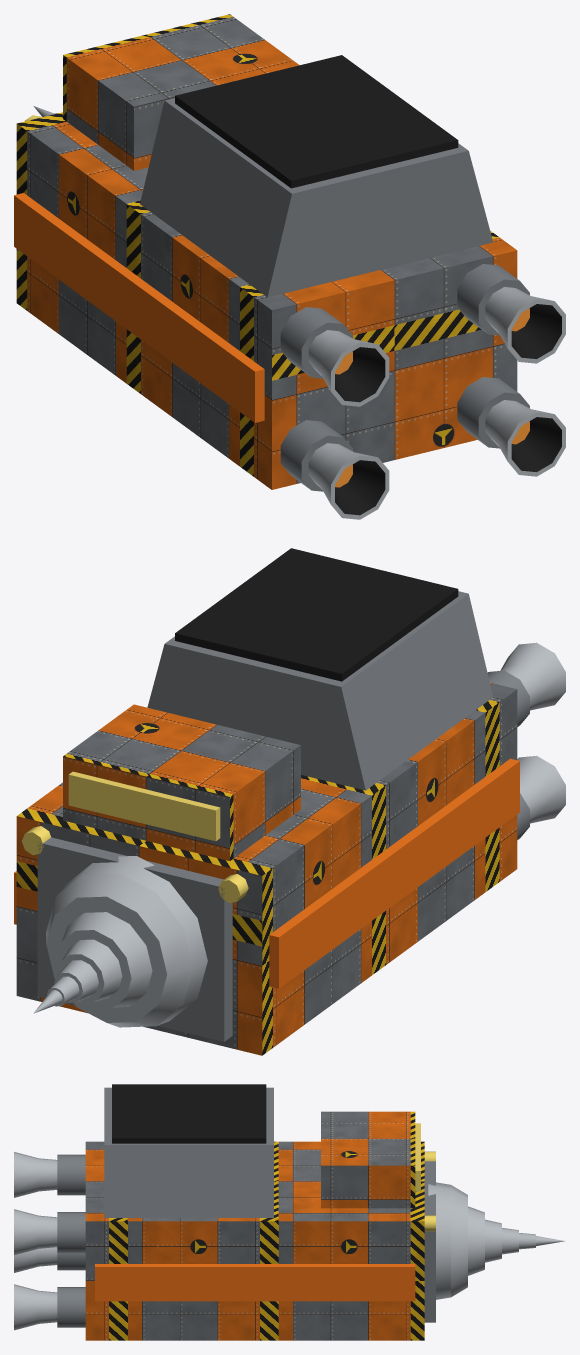
Rendered from prospector_hauler.obj.
The picture shows the model from 3 angles, top to bottom: view 1: azimuth 30°, elevation 25°; view 2: azimuth 150°, elevation 25°; view 3: azimuth 270°, elevation 25°; orthographic projection. The views are drawn at different scales.
Visible parts, largest first — view 1: hull, hopper, ore, thruster, cab, rail, pod; view 2: hull, hopper, cab, drill, ore, rail, drill_mount, cab_glass, thruster, pod, lamp; view 3: hull, hopper, rail, cab, ore, drill, thruster, pod, drill_mount, cab_glass, lamp.
Part boxes in pixels (x1,y1,x2,y2): hull: [16, 112, 517, 489]; hopper: [140, 98, 492, 297]; ore: [175, 55, 458, 188]; thruster: [308, 287, 565, 519]; cab: [63, 14, 299, 170]; rail: [14, 193, 264, 422]; pod: [280, 264, 529, 491]; hull: [16, 682, 517, 1055]; hopper: [147, 591, 492, 790]; cab: [63, 704, 300, 860]; drill: [33, 856, 207, 1027]; ore: [175, 548, 458, 681]; rail: [14, 758, 519, 988]; drill_mount: [37, 837, 232, 1041]; cab_glass: [68, 771, 220, 841]; thruster: [500, 642, 565, 823]; pod: [487, 670, 529, 839]; lamp: [22, 826, 248, 902]; hull: [85, 1141, 424, 1340]; hopper: [104, 1087, 273, 1217]; rail: [95, 1264, 415, 1301]; cab: [321, 1111, 415, 1208]; ore: [112, 1084, 266, 1143]; drill: [428, 1182, 565, 1299]; thruster: [14, 1152, 57, 1330]; pod: [57, 1154, 85, 1327]; drill_mount: [424, 1161, 435, 1322]; cab_glass: [415, 1123, 420, 1191]; lamp: [424, 1151, 435, 1231].
Size of the model in its own units: 10.8 by 11.1 by 29.3.
Materials: 7 (1 with a texture image).
